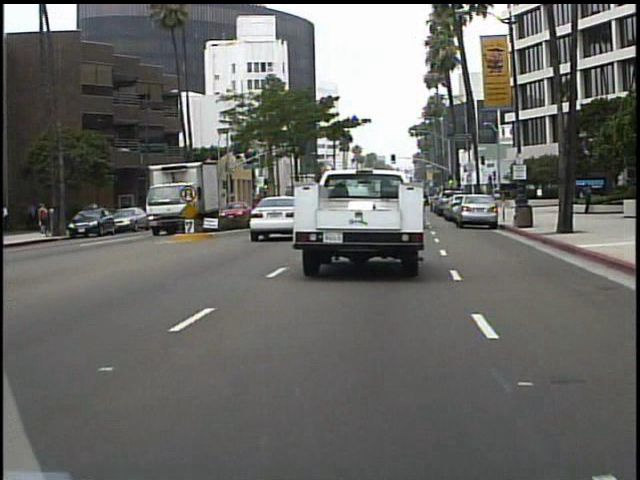person: (579, 179, 594, 216)
